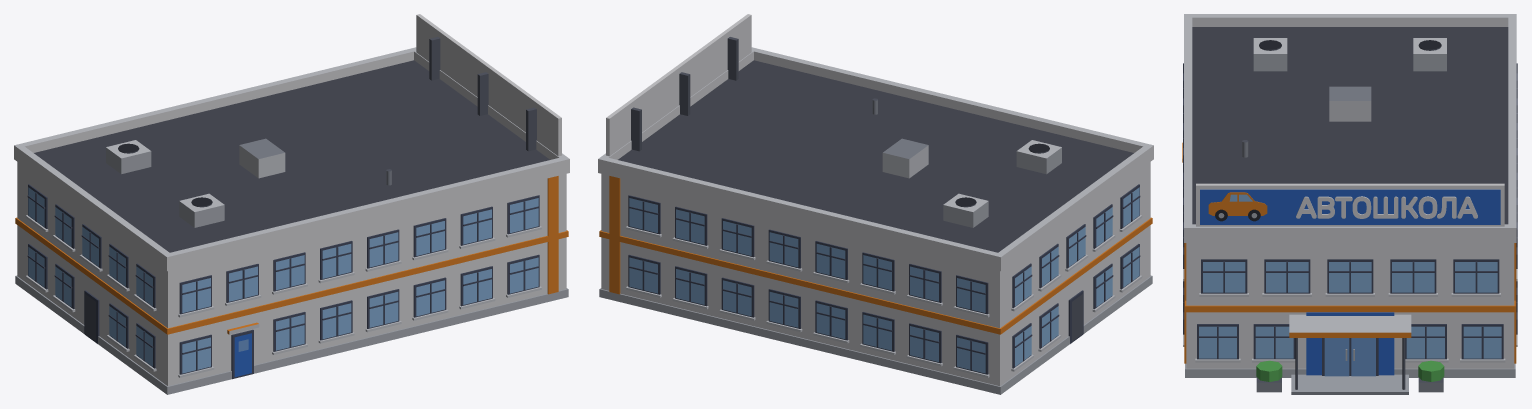
The model's file is driving_school.glb.
3 renders of one model, left to right at view 1: azimuth 30°, elevation 25°; view 2: azimuth 150°, elevation 25°; view 3: azimuth 270°, elevation 25°, orthographic. The views are drawn at different scales.
Parts seen in each view (by area): view 1: DrivingSchool; view 2: DrivingSchool; view 3: DrivingSchool.
Part boxes in pixels (x1,y1,x2,y2): DrivingSchool: (14,14,569,394); DrivingSchool: (598,14,1153,394); DrivingSchool: (1182,14,1517,394).
Bounding box in the file's own units: 26.02 × 10.05 × 15.97.
